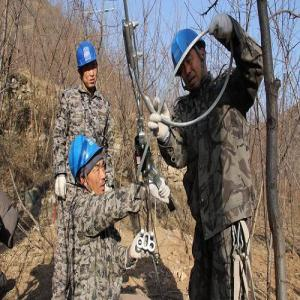blue: (68, 133, 107, 198), (173, 30, 208, 90), (76, 42, 100, 91)
